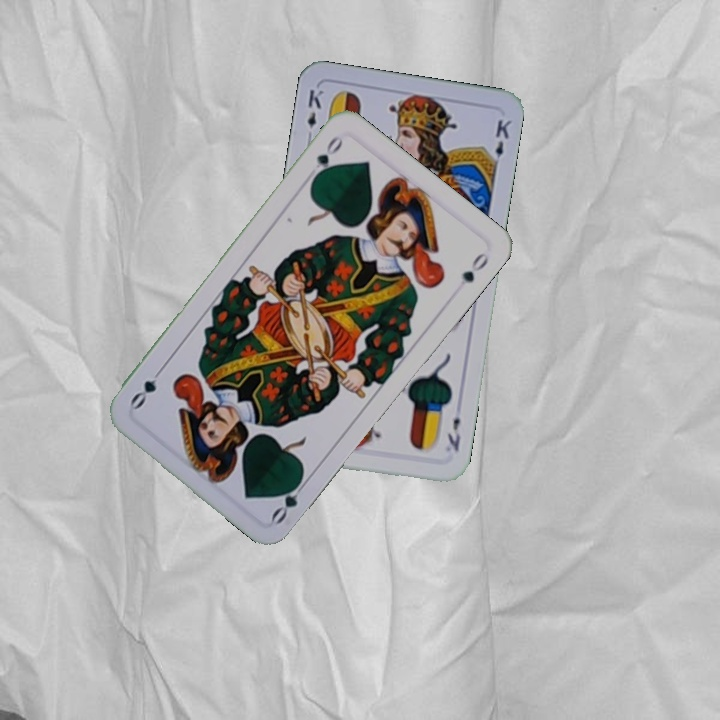EK: (303, 85, 326, 144), (443, 413, 463, 454)
GO: (267, 472, 311, 527), (308, 132, 346, 184)
